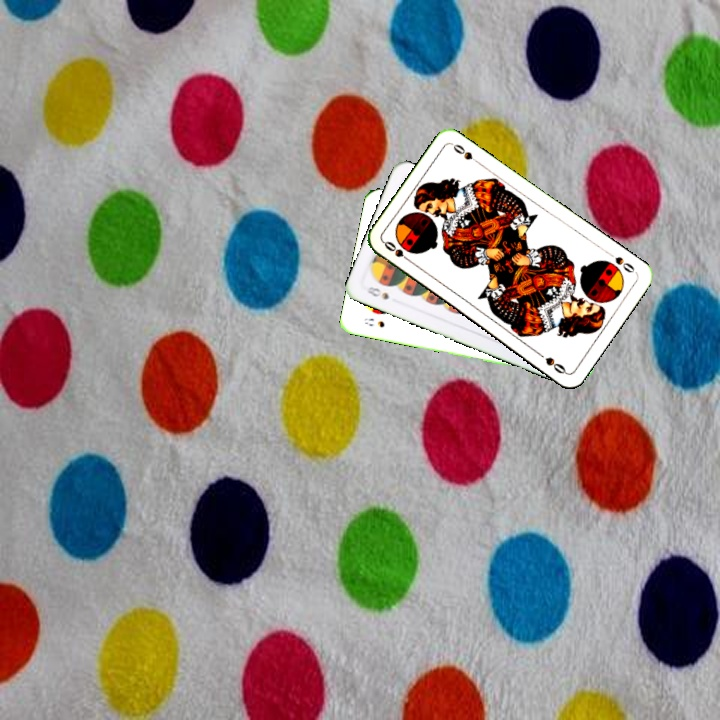S8: (360, 282, 391, 302), (360, 314, 387, 330)
SO: (380, 237, 415, 266), (611, 252, 639, 276)
